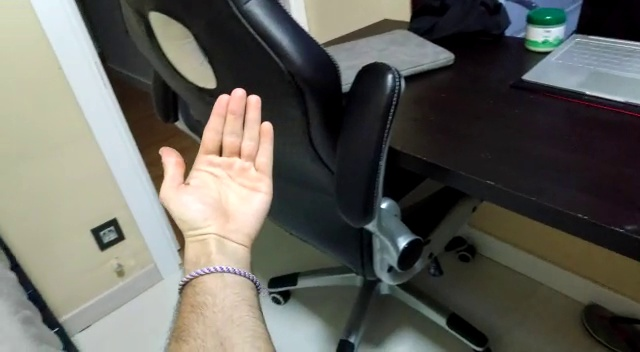Palm: (156, 86, 277, 251)
